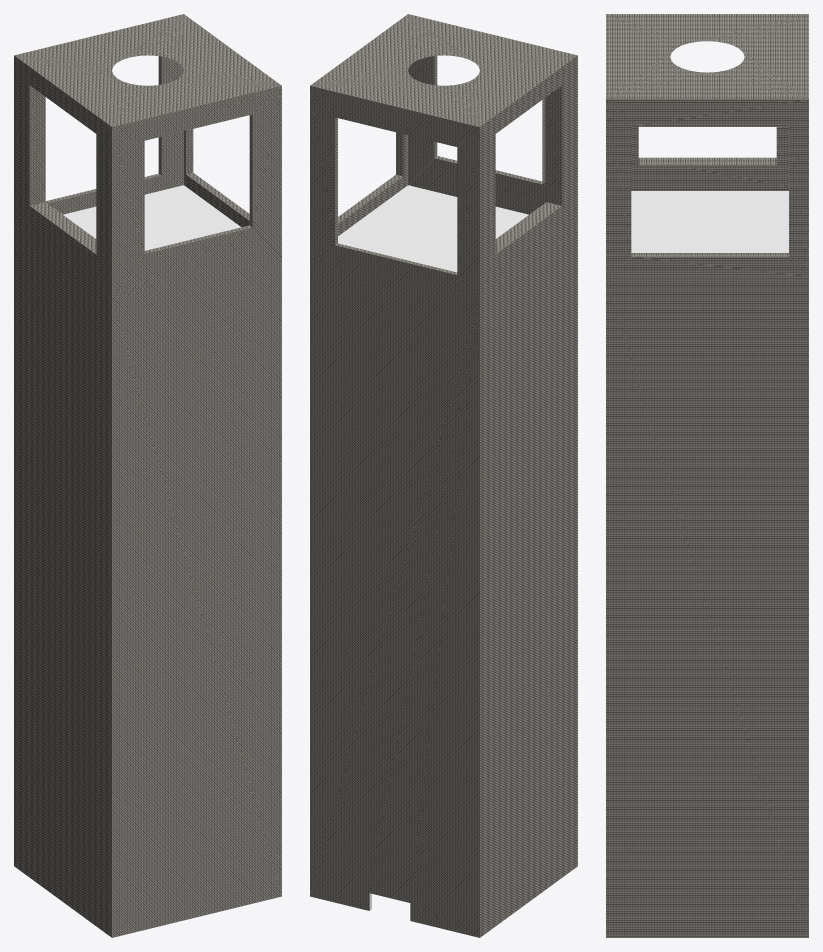
Rendered from L2Tower.fbx.
The picture shows the model from 3 angles, left to right: view 1: azimuth 30°, elevation 25°; view 2: azimuth 150°, elevation 25°; view 3: azimuth 270°, elevation 25°; orthographic projection. The views are drawn at different scales.
Parts seen in each view (by area): view 1: Tower; view 2: Tower; view 3: Tower.
Boxes of the visible parts, x1,y1,x2,y2 form: Tower: (14,14,281,937); Tower: (310,14,577,937); Tower: (606,14,808,937).
Bounding box in the file's own units: 30.7 × 140 × 30.7.
